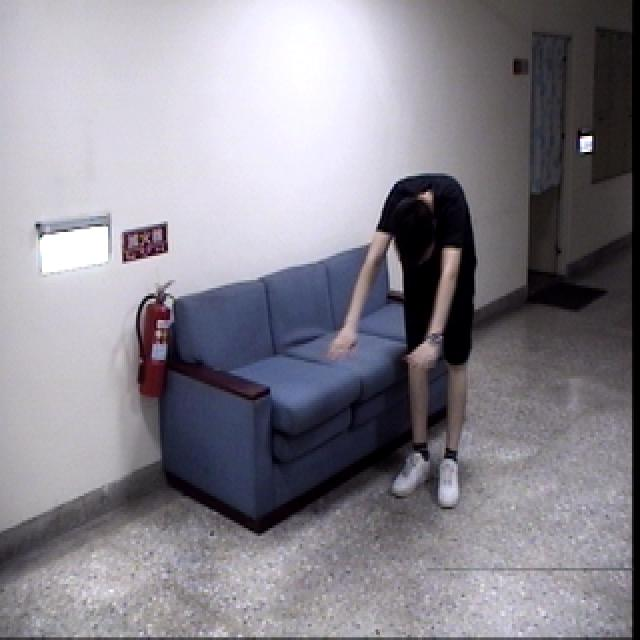bend: (320, 172, 484, 512)
